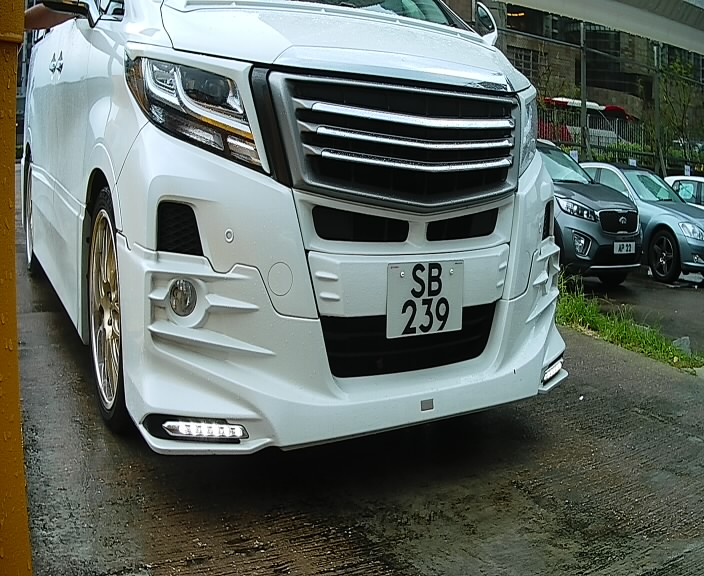License Plate: (378, 248, 476, 348)
